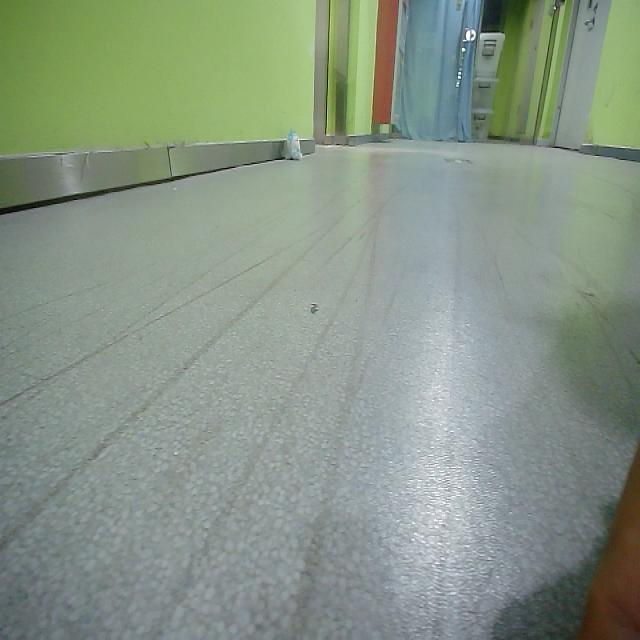xiaoba: (280, 126, 306, 164)
